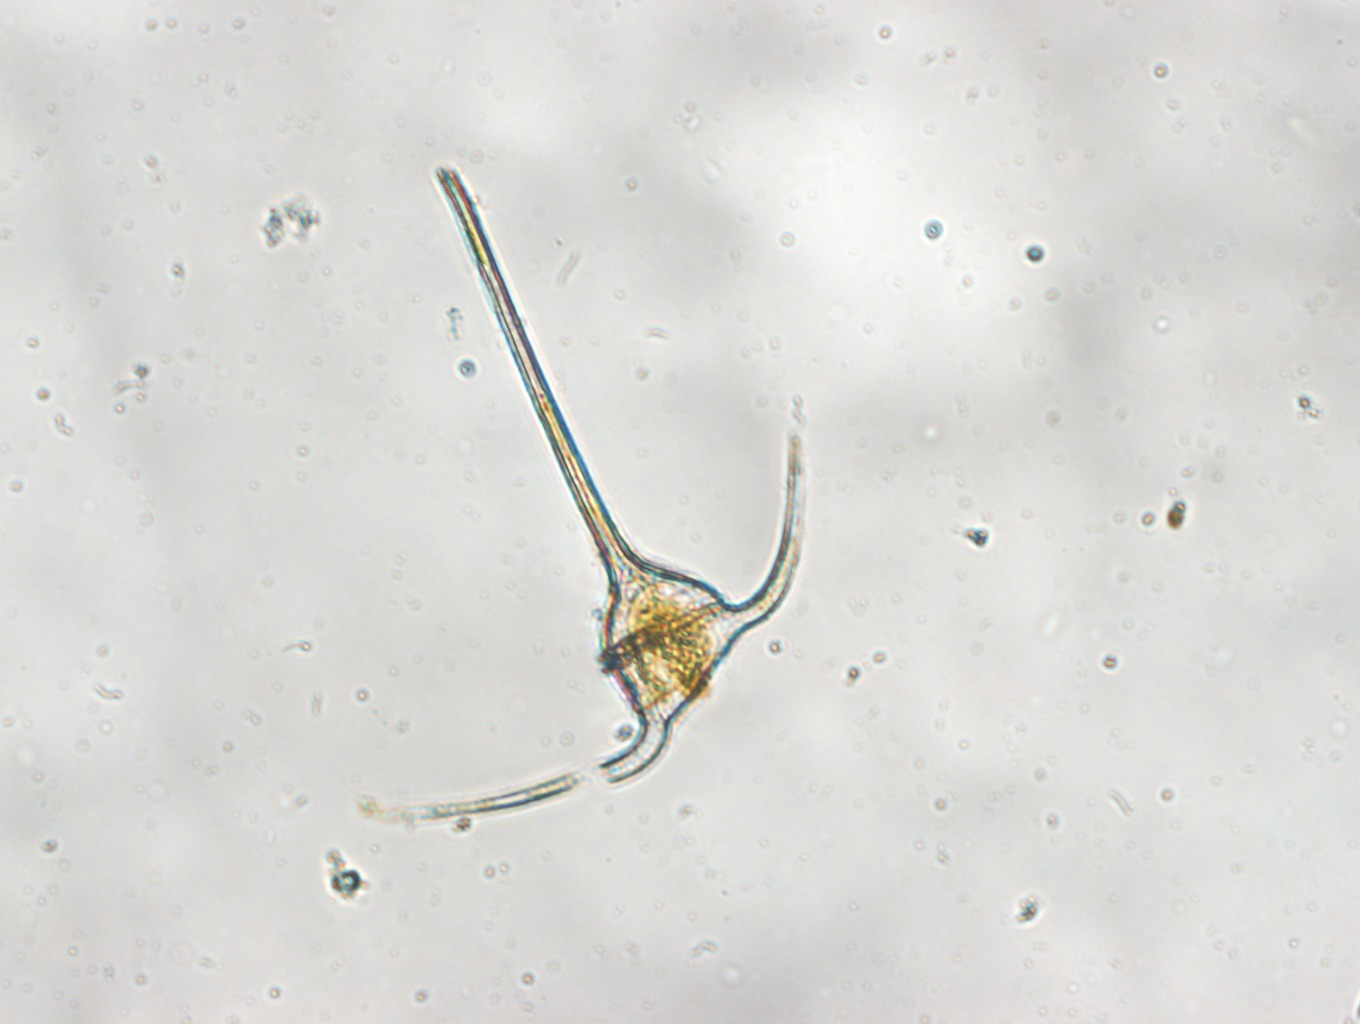ceratium trichoceros: (344, 151, 826, 830)
